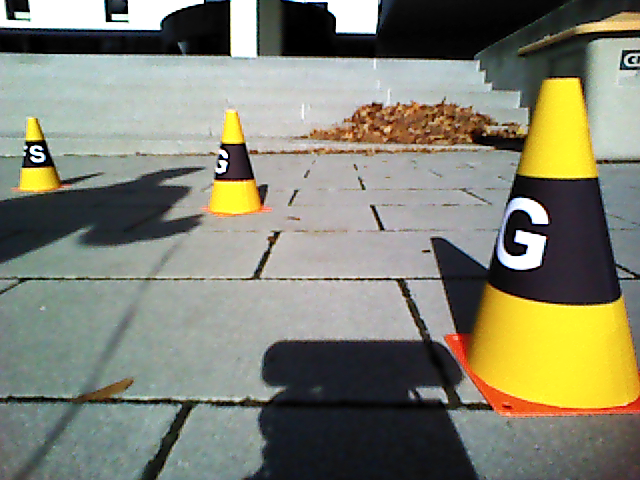yellowcone: (480, 77, 637, 399), (209, 109, 260, 210), (19, 118, 59, 189)
